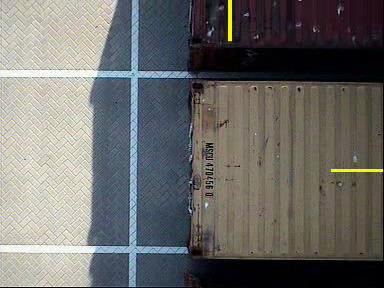groundmarker_2: (110, 225, 179, 254), (108, 81, 176, 110)
